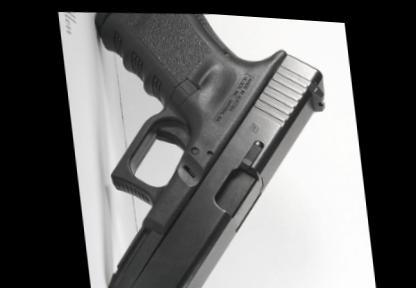pistol: (75, 3, 350, 285)
